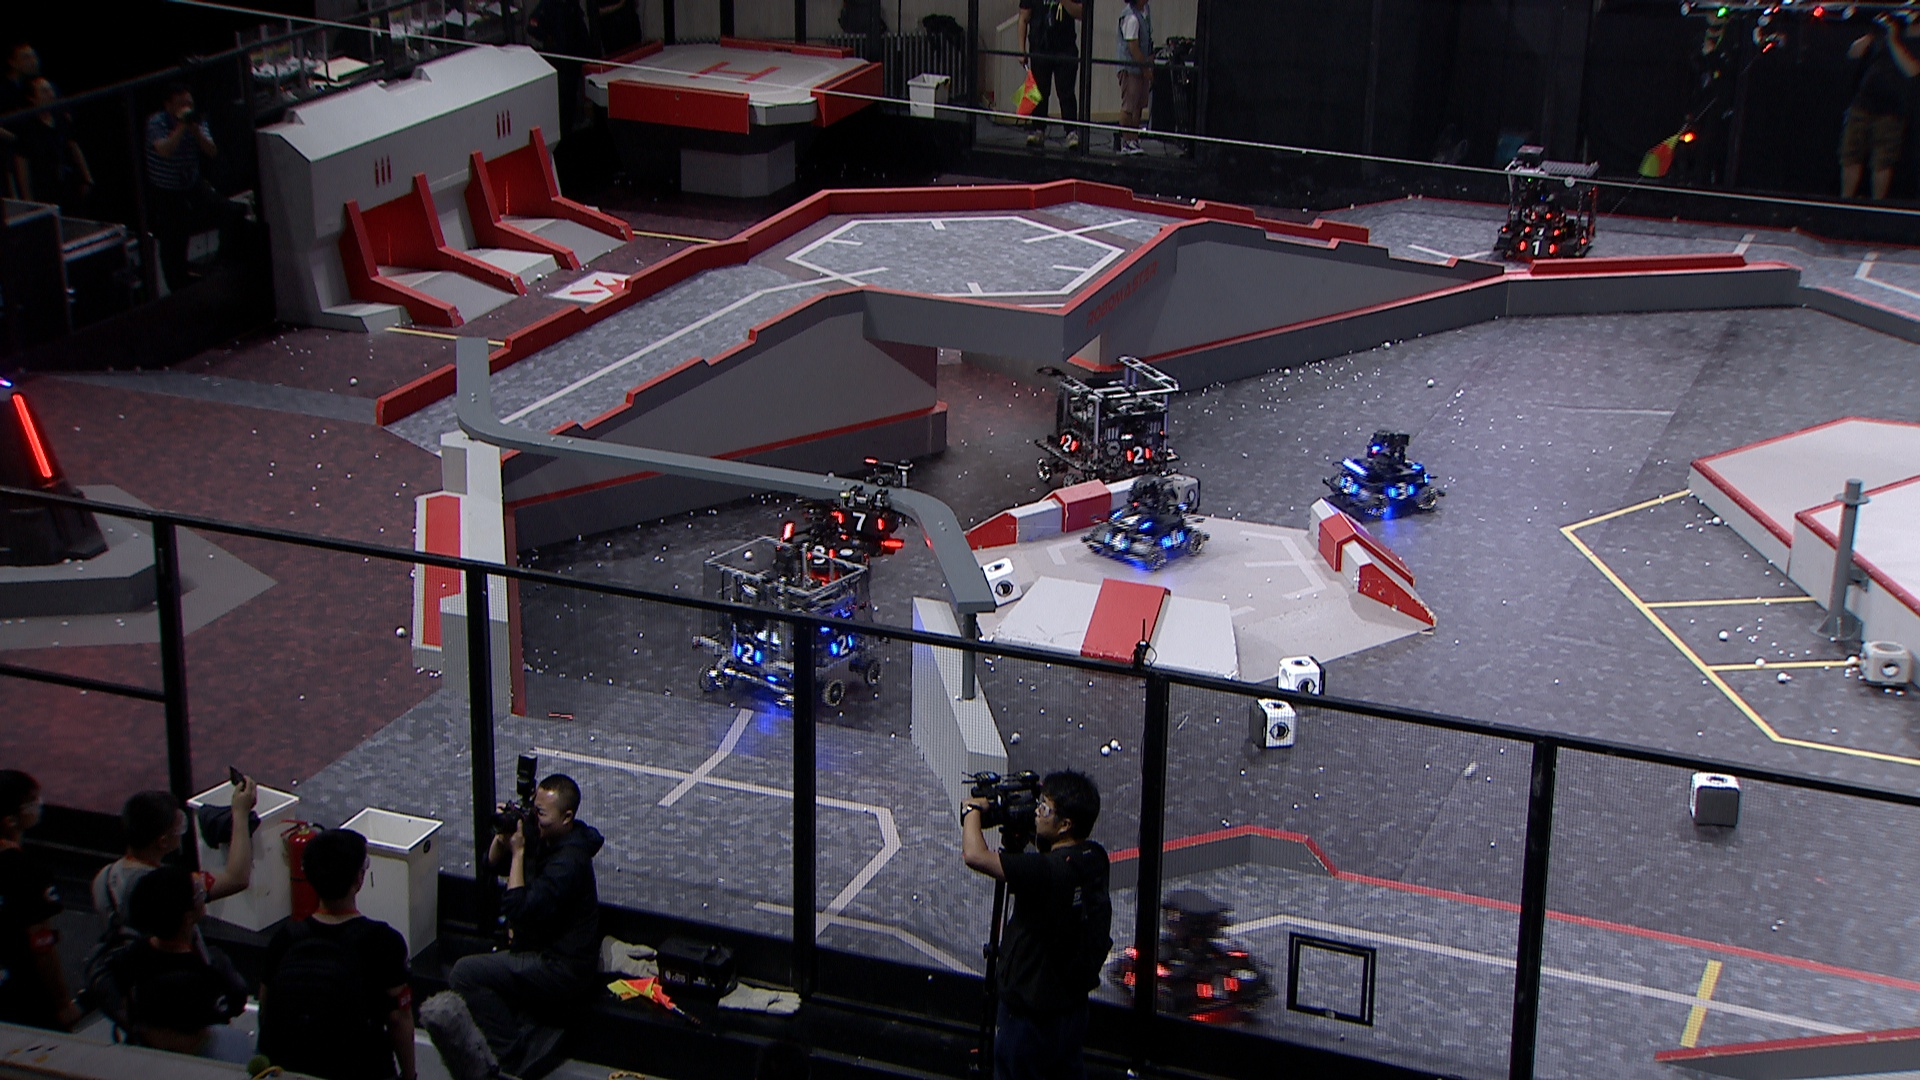armor: (12, 390, 53, 480), (1196, 972, 1244, 1001), (835, 512, 887, 533), (1112, 508, 1154, 531), (733, 640, 765, 669), (1160, 524, 1187, 553), (1516, 240, 1557, 257), (1102, 531, 1131, 555), (804, 545, 836, 564), (829, 636, 856, 659), (1522, 223, 1561, 237), (1386, 481, 1415, 501), (1125, 446, 1153, 465), (1338, 472, 1358, 498), (1058, 434, 1081, 455), (1403, 458, 1423, 472), (1578, 229, 1593, 247)
car: (692, 535, 893, 711), (1106, 885, 1275, 1021), (1030, 351, 1182, 493), (1079, 473, 1211, 575), (1493, 145, 1602, 262), (1323, 425, 1447, 520), (770, 491, 878, 582)
watcher: (832, 455, 913, 555)
